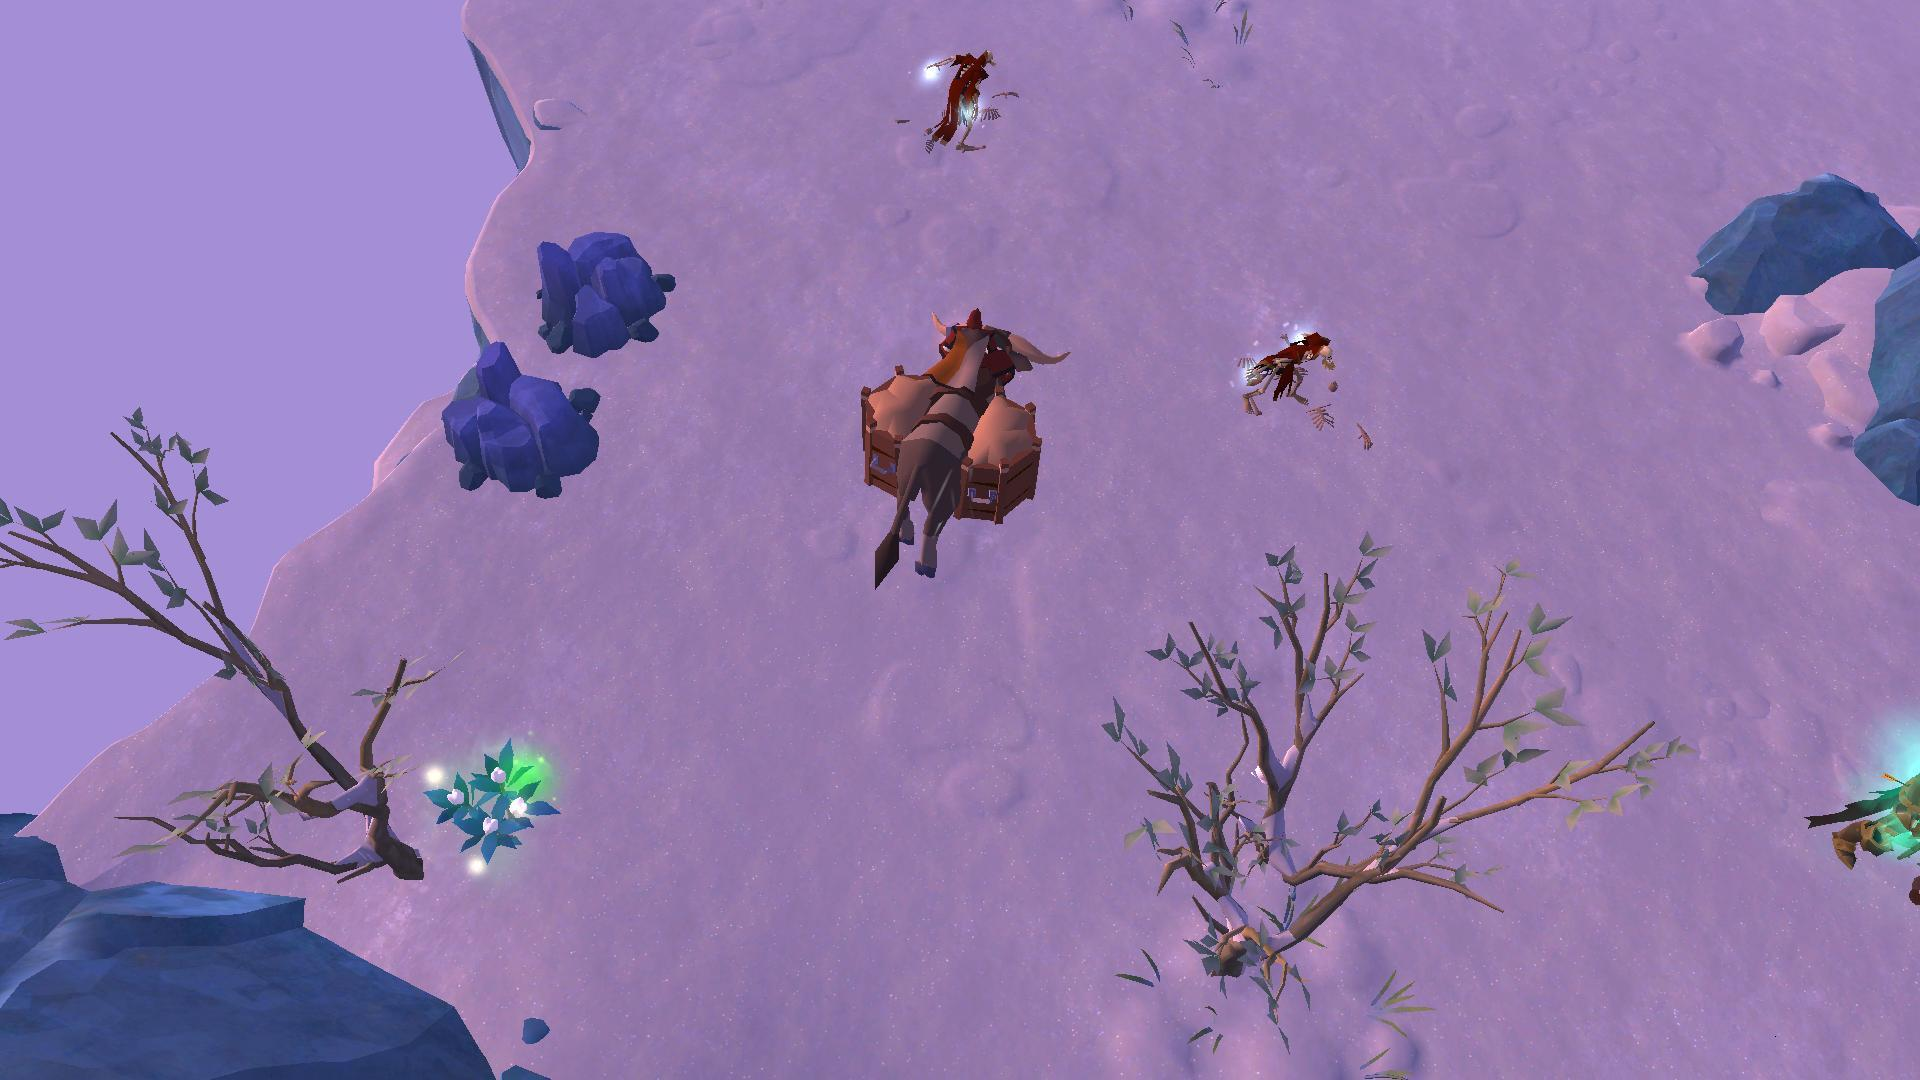enemy_factionUndead: (1818, 767, 1920, 890), (909, 41, 994, 153), (1241, 332, 1332, 417)
fiber_t4: (418, 749, 550, 865)
rock_t4: (444, 339, 603, 496), (524, 212, 674, 353)
